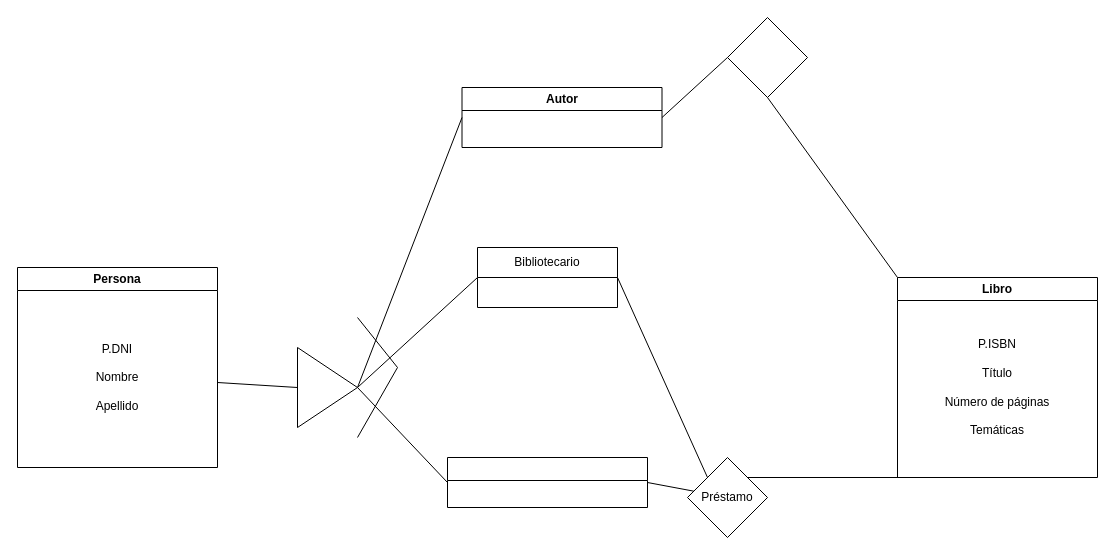
Some shapes in this 1115 by 555 pixel diagram are drawn without their labels. Each missing label, with the centre of its shape:
"Escribe" belongs at pixel 767 57.
"Socio" belongs at pixel 547 482.
